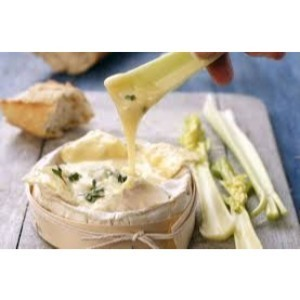cheese_brain food: (24, 149, 170, 234)
